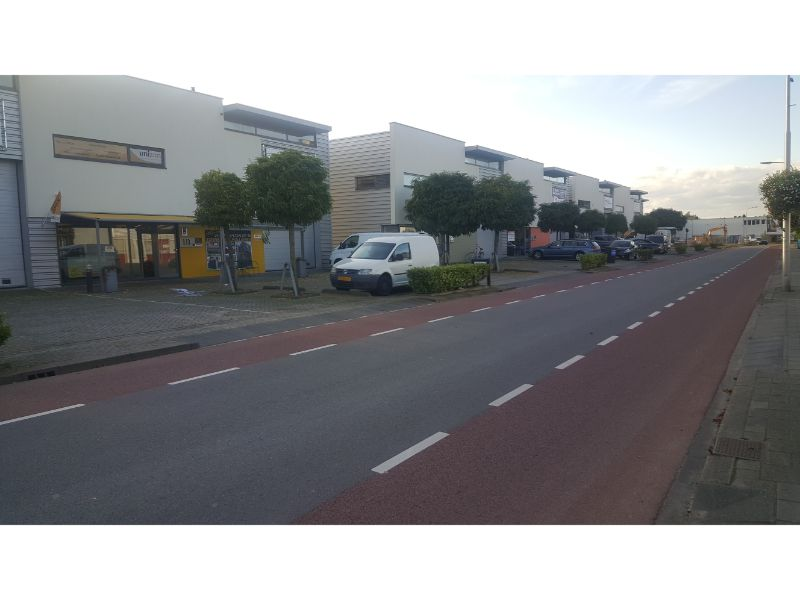kenteken: (337, 275, 354, 283)
